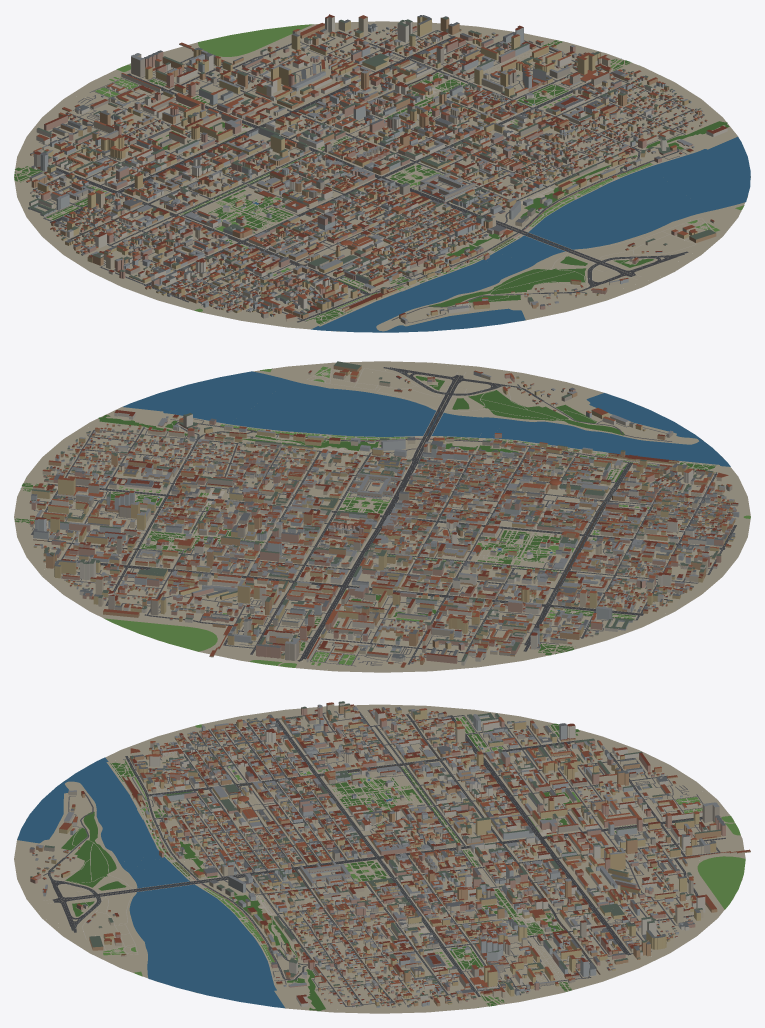
File: rostov-center.glb
The picture shows the model from 3 angles, top to bottom: view 1: azimuth 30°, elevation 25°; view 2: azimuth 150°, elevation 25°; view 3: azimuth 270°, elevation 25°; orthographic projection.
Visible parts, largest first — view 1: map_-1_-1_5, map_-1_0_6, map_0_-1_9, map_0_0_10, map_-1_-2_4, map_-2_-1_1, map_-2_0_2, map_1_0_14, map_1_-1_13, map_0_1_11, map_-1_1_7, map_0_-2_8; view 2: map_-1_0_6, map_-1_-1_5, map_0_-1_9, map_0_0_10, map_-2_0_2, map_-1_-2_4, map_-2_-1_1, map_0_1_11, map_1_0_14, map_1_-1_13, map_-1_1_7, map_0_-2_8; view 3: map_-1_-1_5, map_-1_0_6, map_0_-1_9, map_0_0_10, map_1_0_14, map_-1_-2_4, map_-2_-1_1, map_-2_0_2, map_0_1_11, map_1_-1_13, map_-1_1_7, map_0_-2_8.
Part boxes in pixels (x1=…): map_-1_-1_5: x1=43, y1=117, x2=721, y2=326; map_-1_0_6: x1=42, y1=81, x2=722, y2=236; map_0_-1_9: x1=382, y1=117, x2=722, y2=322; map_0_0_10: x1=91, y1=23, x2=721, y2=177; map_-1_-2_4: x1=300, y1=260, x2=673, y2=332; map_-2_-1_1: x1=43, y1=223, x2=332, y2=331; map_-2_0_2: x1=14, y1=83, x2=178, y2=270; map_1_0_14: x1=432, y1=22, x2=722, y2=126; map_1_-1_13: x1=570, y1=99, x2=750, y2=271; map_0_1_11: x1=91, y1=14, x2=468, y2=86; map_-1_1_7: x1=17, y1=42, x2=268, y2=155; map_0_-2_8: x1=490, y1=202, x2=745, y2=320; map_-1_0_6: x1=90, y1=422, x2=674, y2=671; map_-1_-1_5: x1=91, y1=420, x2=719, y2=611; map_0_-1_9: x1=90, y1=362, x2=680, y2=516; map_0_0_10: x1=40, y1=422, x2=382, y2=670; map_-2_0_2: x1=336, y1=562, x2=721, y2=671; map_-1_-2_4: x1=431, y1=362, x2=730, y2=478; map_-2_-1_1: x1=588, y1=466, x2=750, y2=611; map_0_1_11: x1=43, y1=550, x2=333, y2=671; map_1_0_14: x1=14, y1=422, x2=241, y2=575; map_1_-1_13: x1=75, y1=362, x2=428, y2=477; map_-1_1_7: x1=202, y1=594, x2=521, y2=672; map_0_-2_8: x1=243, y1=361, x2=604, y2=447; map_-1_-1_5: x1=106, y1=706, x2=427, y2=1011; map_-1_0_6: x1=332, y1=706, x2=717, y2=1011; map_0_-1_9: x1=42, y1=787, x2=400, y2=1011; map_0_0_10: x1=333, y1=800, x2=717, y2=1012; map_1_0_14: x1=333, y1=926, x2=669, y2=1013; map_-1_-2_4: x1=17, y1=755, x2=158, y2=917; map_-2_-1_1: x1=90, y1=701, x2=425, y2=776; map_-2_0_2: x1=334, y1=704, x2=716, y2=799; map_0_1_11: x1=608, y1=800, x2=745, y2=958; map_1_-1_13: x1=42, y1=918, x2=402, y2=1012; map_-1_1_7: x1=576, y1=737, x2=750, y2=878; map_0_-2_8: x1=14, y1=839, x2=224, y2=978.
Size of the model in its own units: 3120 by 80.64 by 3142.
